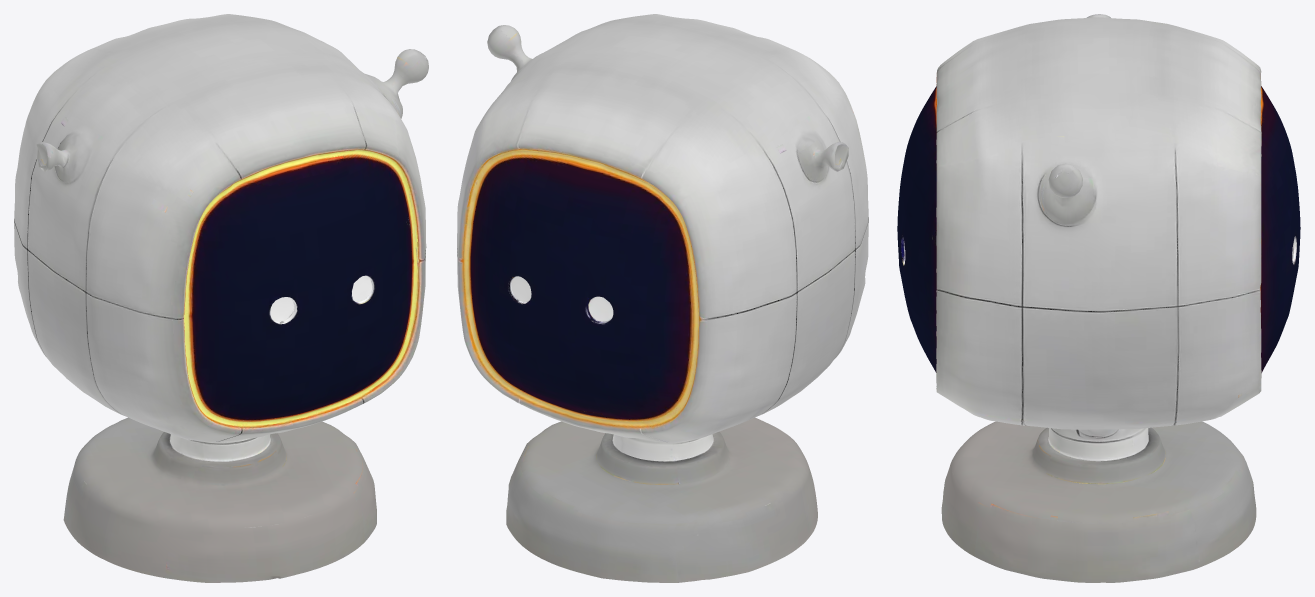
Rendered from robot-head.glb.
The picture shows the model from 3 angles, left to right: view 1: azimuth 30°, elevation 25°; view 2: azimuth 150°, elevation 25°; view 3: azimuth 270°, elevation 25°; orthographic projection.
Visible parts, largest first — view 1: Mesh_0; view 2: Mesh_0; view 3: Mesh_0.
Boxes of the visible parts, bbox=[...] form: Mesh_0: bbox=[14, 14, 428, 582]; Mesh_0: bbox=[457, 14, 868, 582]; Mesh_0: bbox=[897, 14, 1300, 582].
Bounding box in the file's own units: 1.57 × 1.9 × 1.48.
Materials: 1 (1 with a texture image).
